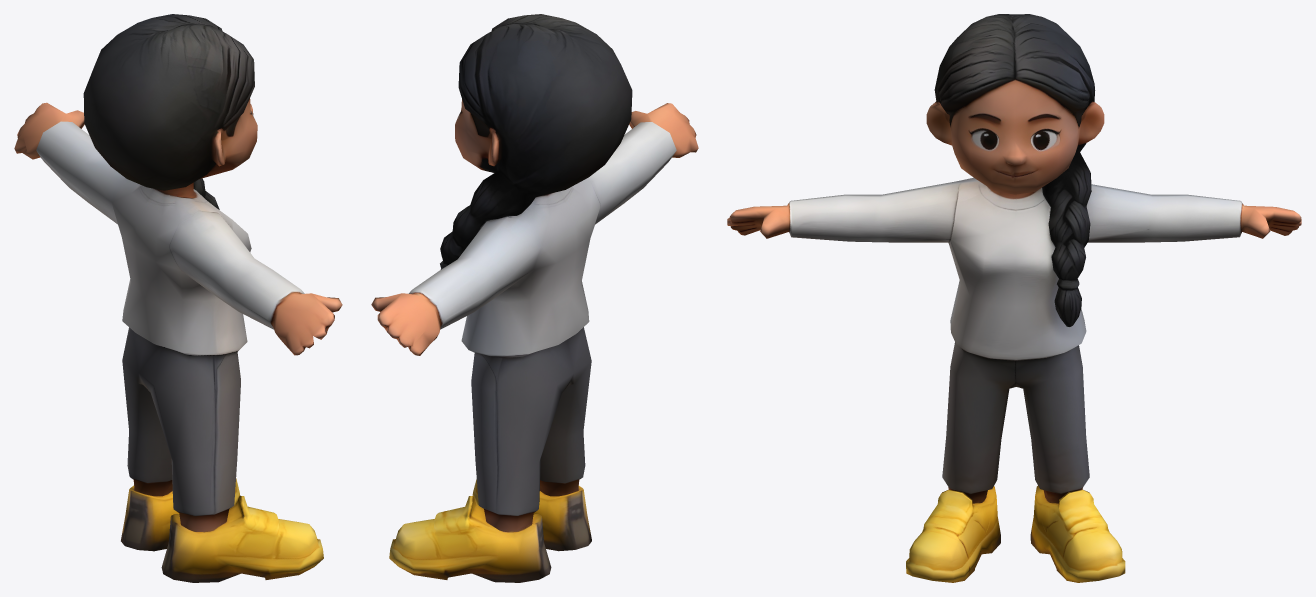
3 renders of one model, left to right at view 1: azimuth 30°, elevation 25°; view 2: azimuth 150°, elevation 25°; view 3: azimuth 270°, elevation 25°, orthographic. The views are drawn at different scales.
Visible parts, largest first — view 1: tripo_node_192baca5-c51f-4ec6-800e-fa474ab1eeed; view 2: tripo_node_192baca5-c51f-4ec6-800e-fa474ab1eeed; view 3: tripo_node_192baca5-c51f-4ec6-800e-fa474ab1eeed.
Boxes of the visible parts, x1,y1,x2,y2 form: tripo_node_192baca5-c51f-4ec6-800e-fa474ab1eeed: (14, 14, 342, 582); tripo_node_192baca5-c51f-4ec6-800e-fa474ab1eeed: (371, 14, 698, 582); tripo_node_192baca5-c51f-4ec6-800e-fa474ab1eeed: (727, 14, 1301, 582).
Bounding box in the file's own units: 0.3579 × 0.9927 × 0.9995.
1 material, 1 textured.
